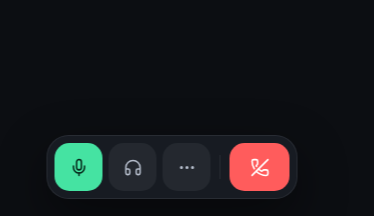
Test: Dock › «Изменить персонажа» and «Запись и стрим» lead out of the call and close the menu
Later steps or results of the test are not shown.
What coordinates should you click on to do the following:
click the button named "Ещё"
I would click on:
 (186, 167)
Its box is [162,143,210,191].
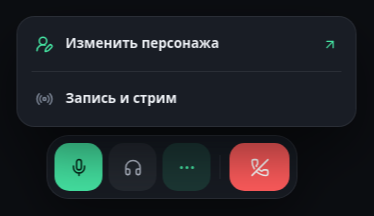
What coordinates should you click on to do the following:
click the menu item "Изменить персонажа"
I would click on:
 (186, 44)
Its box is [24,23,350,65].
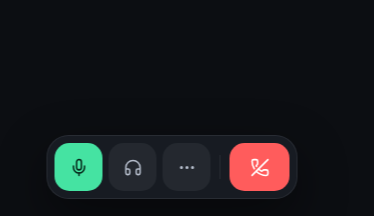
Expected: the menu is gone
